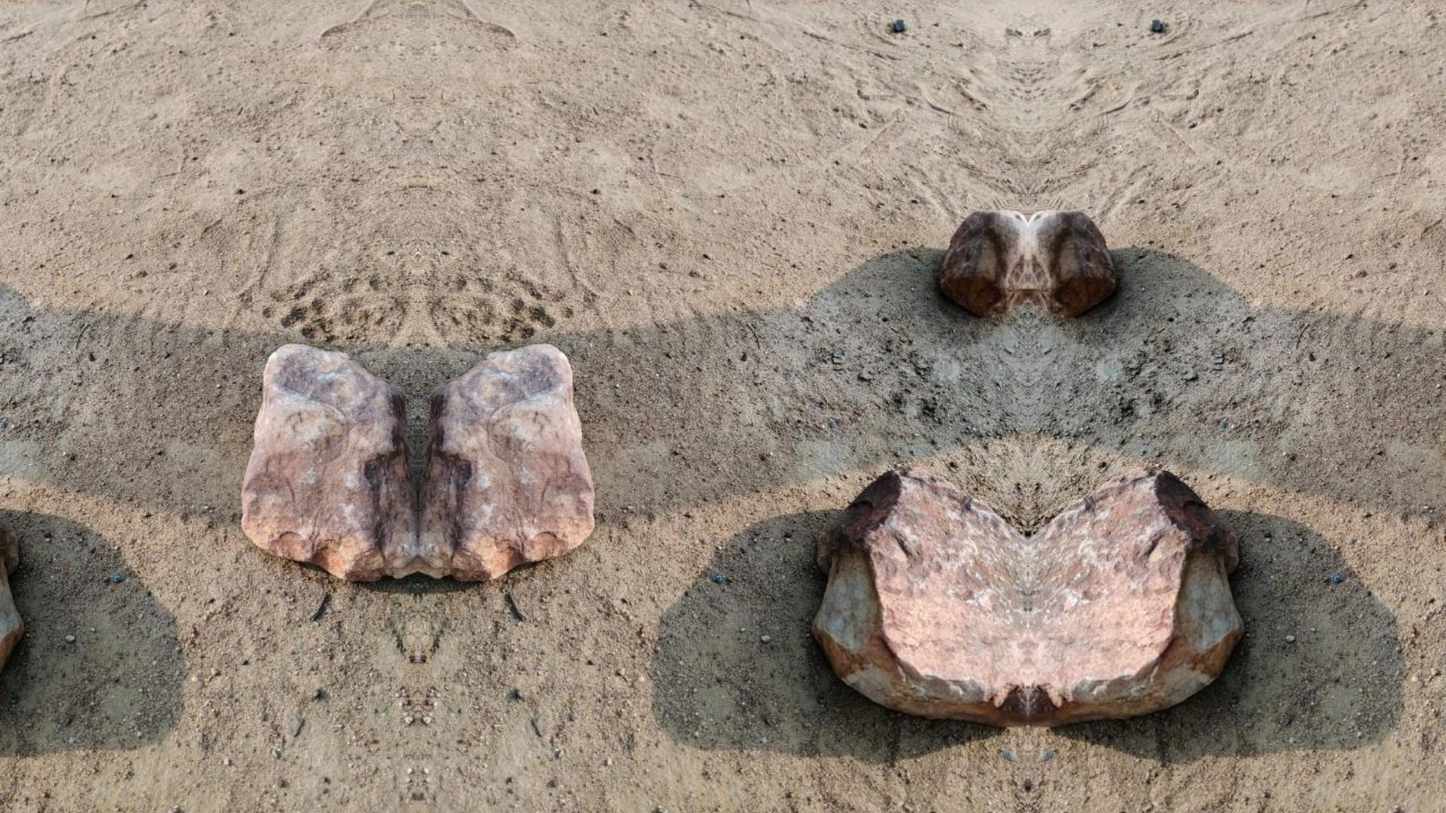rock: (1049, 471, 1243, 723), (812, 471, 998, 719), (242, 344, 417, 579), (419, 344, 593, 580), (939, 211, 1019, 315), (1036, 211, 1115, 315), (0, 519, 24, 668)
